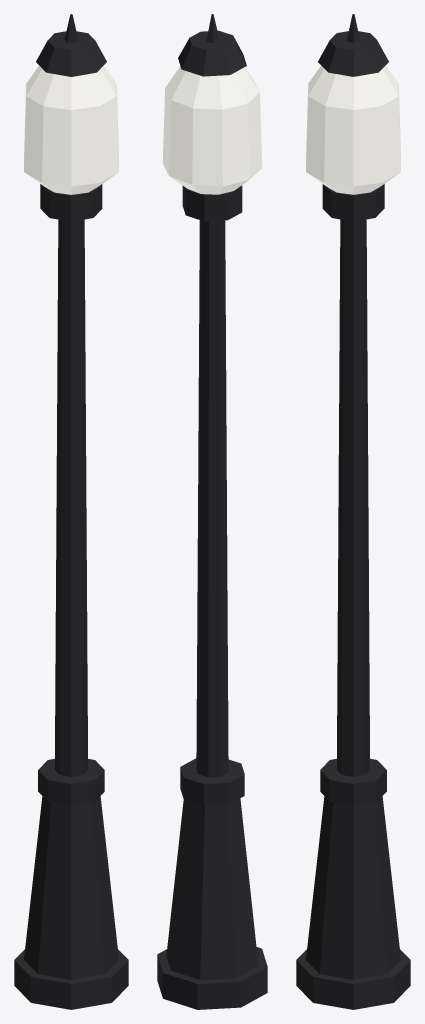
The model's file is town_streetlight 2.gltf.
The picture shows the model from 3 angles, left to right: view 1: azimuth 90°, elevation 25°; view 2: azimuth 210°, elevation 25°; view 3: azimuth 270°, elevation 25°; orthographic projection.
Visible parts, largest first — view 1: TownStreetlight_Post, TownStreetlight_Globe_Glow; view 2: TownStreetlight_Post, TownStreetlight_Globe_Glow; view 3: TownStreetlight_Post, TownStreetlight_Globe_Glow.
Boxes of the visible parts, x1,y1,x2,y2 form: TownStreetlight_Post: (14,14,128,1009); TownStreetlight_Globe_Glow: (24,65,118,194); TownStreetlight_Post: (157,14,267,1009); TownStreetlight_Globe_Glow: (162,66,262,194); TownStreetlight_Post: (296,14,410,1009); TownStreetlight_Globe_Glow: (306,65,400,194).
Size of what is drawn, in the model's own units: 0.4801 by 4.5 by 0.4801.
2 materials, 2 textured.
